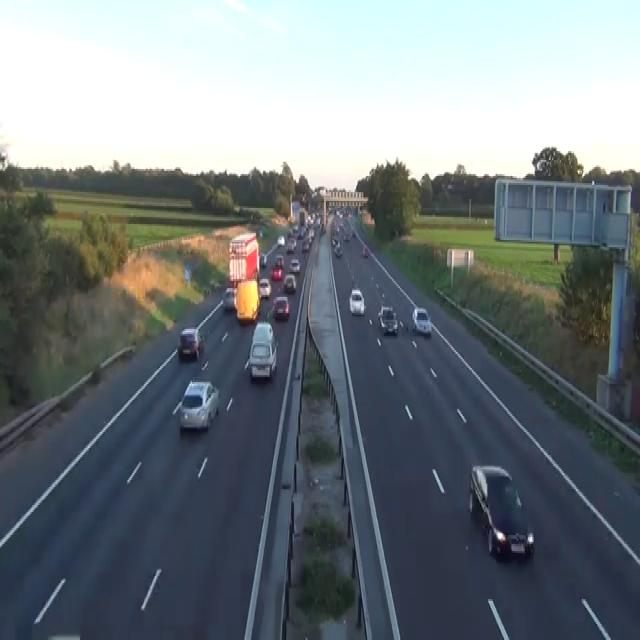Car: (468, 464, 534, 562), (179, 379, 219, 430), (244, 322, 278, 380), (178, 325, 203, 359), (377, 304, 398, 334), (411, 306, 431, 334), (251, 322, 274, 345), (349, 288, 365, 315), (272, 295, 289, 320), (222, 286, 236, 310), (258, 277, 271, 299), (283, 274, 296, 292), (289, 258, 300, 274), (270, 265, 282, 279), (334, 242, 343, 258), (183, 265, 191, 283), (275, 254, 283, 267), (362, 244, 369, 258), (259, 252, 266, 266), (301, 240, 309, 252), (276, 235, 285, 245), (285, 242, 294, 252), (203, 286, 211, 295), (331, 237, 338, 247), (343, 233, 350, 242), (328, 204, 335, 212), (292, 224, 298, 233), (259, 228, 262, 238), (351, 230, 355, 237)
Truck: (228, 231, 259, 286), (234, 279, 260, 324)
